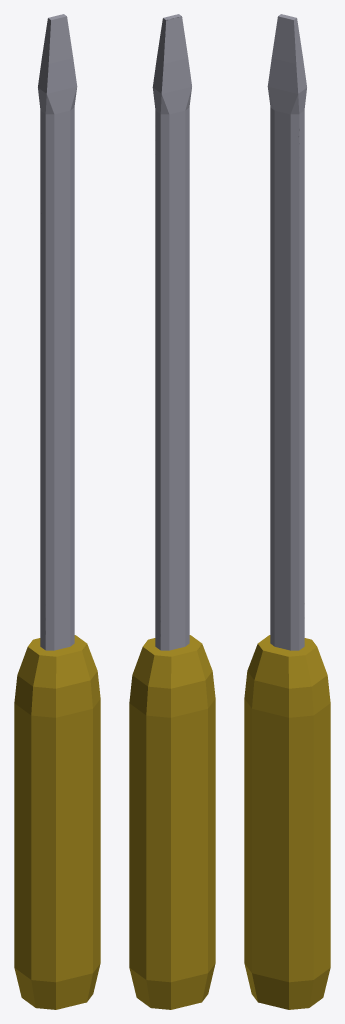
Rendered from Screwdriver_v.fbx.
The picture shows the model from 3 angles, left to right: view 1: azimuth 30°, elevation 25°; view 2: azimuth 210°, elevation 25°; view 3: azimuth 330°, elevation 25°; orthographic projection.
Visible parts, largest first — view 1: Scredriver; view 2: Scredriver; view 3: Scredriver.
Boxes of the visible parts, x1,y1,x2,y2 form: Scredriver: [14, 14, 100, 1009]; Scredriver: [129, 14, 215, 1009]; Scredriver: [244, 14, 330, 1009].
Bounding box in the file's own units: 0.0113 × 0.1526 × 0.00958.
